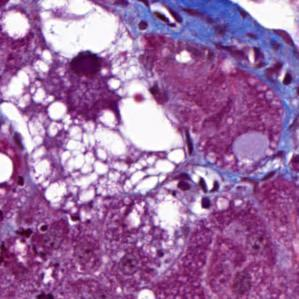ballooning: (36, 3, 123, 66)
